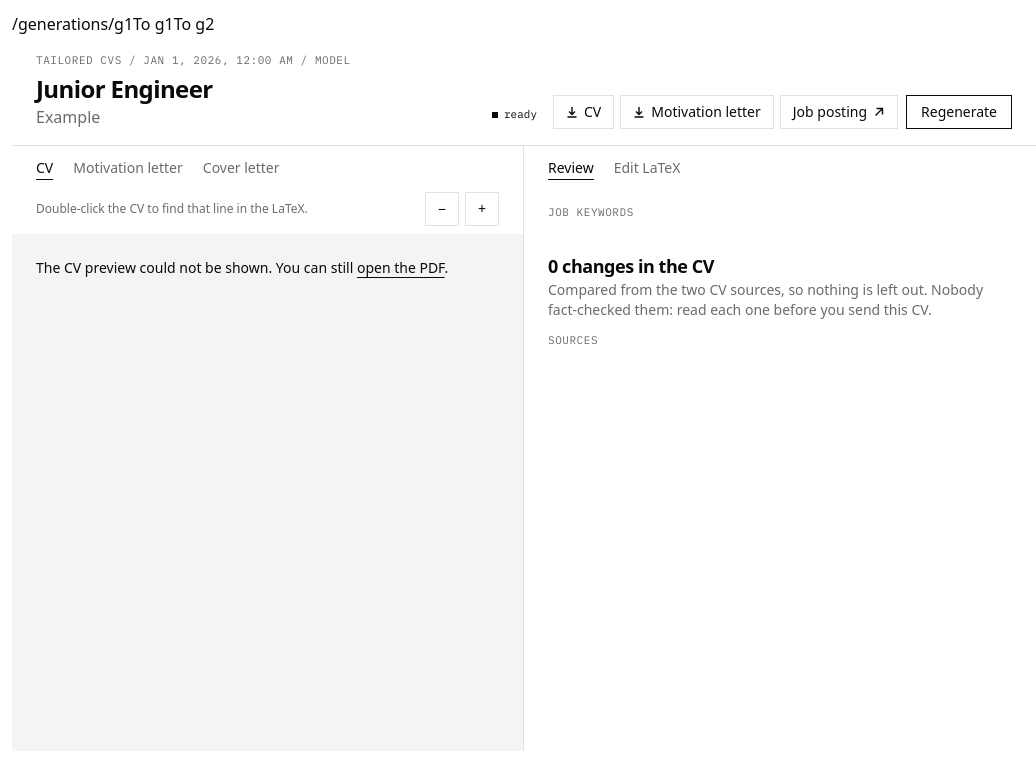
Test: GenerationPage › cannot save an unchanged source
Step 1. Click the tab "Edit LaTeX" → (647, 168), box [614,158,680,180]
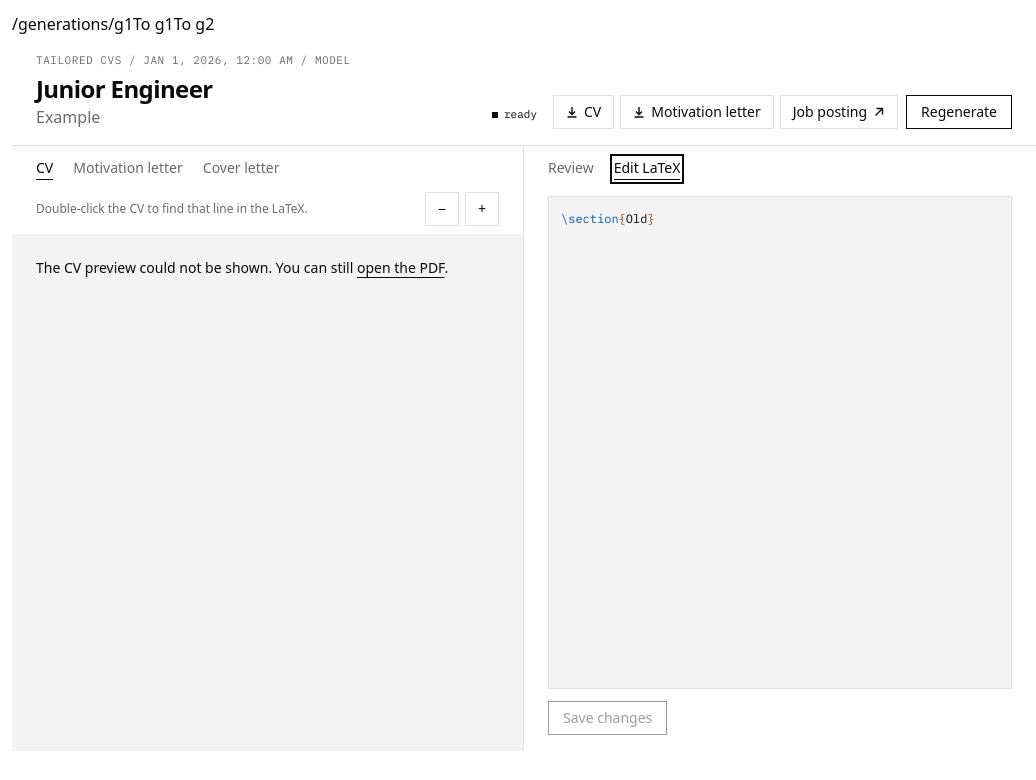
Expected: the text box named "CV LaTeX source" holds "\\section{Old}", [549,196,1011,688]
Expected: the button "Save changes" is disabled, [548,701,667,735]
